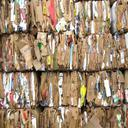cardboard: (0, 0, 127, 127), (33, 30, 79, 69), (38, 70, 84, 108), (76, 31, 118, 69), (82, 70, 122, 105), (29, 0, 73, 31), (0, 31, 33, 72), (72, 0, 110, 35), (0, 71, 37, 106), (37, 105, 84, 127), (81, 106, 127, 127), (0, 0, 29, 31), (4, 107, 38, 127), (110, 0, 127, 32), (118, 32, 127, 69), (121, 69, 127, 104), (0, 108, 5, 127)
